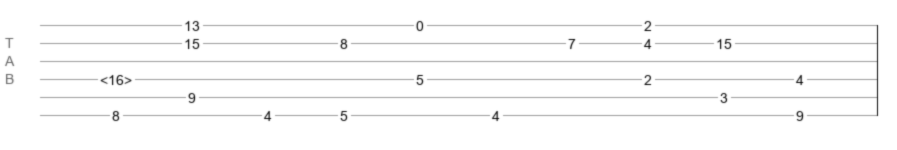0: (416, 18, 424, 28)
13: (184, 18, 200, 28)
15: (184, 36, 200, 46), (716, 36, 732, 46)
2: (644, 72, 652, 82), (644, 18, 652, 28)
3: (720, 90, 728, 100)
4: (264, 108, 272, 118), (492, 108, 500, 118), (644, 36, 652, 46), (796, 72, 804, 82)
5: (340, 108, 348, 118), (416, 72, 424, 82)
7: (568, 36, 576, 46)
8: (112, 108, 120, 118), (340, 36, 348, 46)
9: (188, 90, 196, 100), (796, 108, 804, 118)
harmonic: (100, 72, 132, 82)
